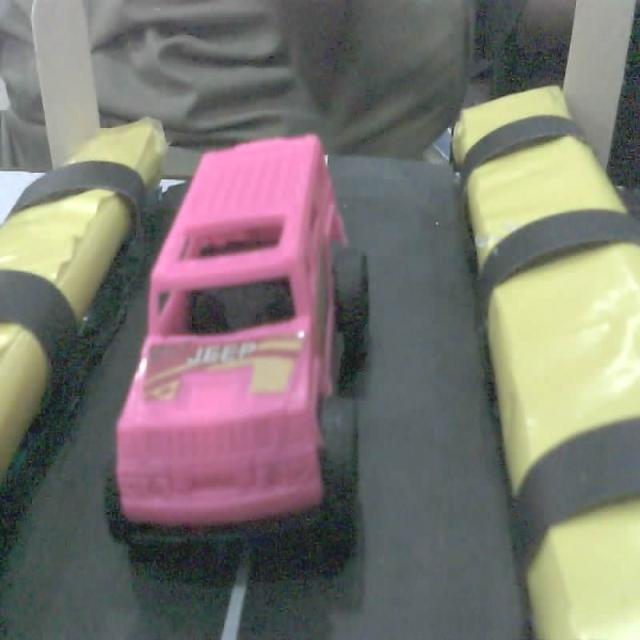OneCar: (97, 126, 406, 572)
